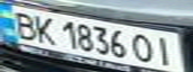1: (54, 18, 78, 50)
3: (90, 25, 112, 56)
6: (109, 28, 130, 60)
8: (72, 21, 93, 53)
B: (6, 9, 42, 39)
I: (151, 34, 181, 68)
K: (30, 14, 60, 45)
O: (130, 30, 160, 64)
